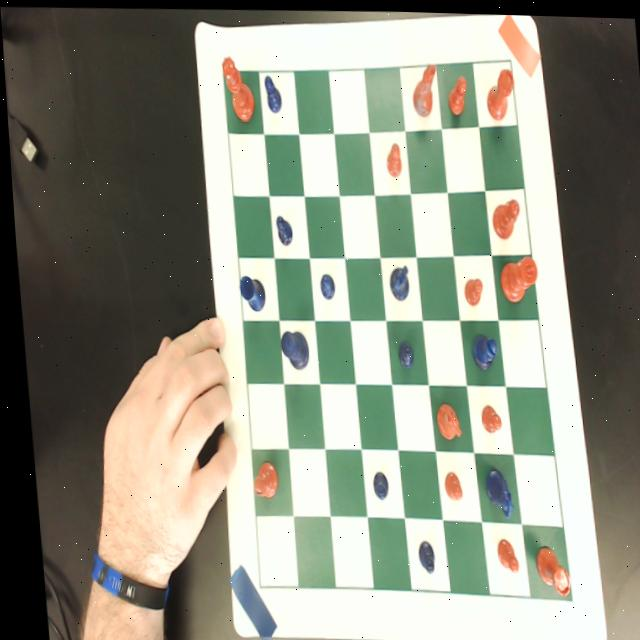B: (465, 329, 494, 368)
K: (273, 327, 304, 368)
N: (476, 462, 508, 518), (381, 257, 407, 300)
P: (260, 71, 281, 111), (408, 535, 427, 572), (363, 466, 382, 497), (271, 212, 289, 242), (313, 269, 331, 297), (392, 337, 409, 366)
R: (233, 272, 262, 310)
b: (486, 192, 519, 239), (240, 455, 273, 501)
k: (493, 251, 535, 301)
n: (407, 57, 438, 114), (428, 397, 456, 440)
p: (443, 70, 467, 112), (487, 532, 511, 571), (472, 400, 496, 431), (381, 139, 401, 175), (457, 272, 480, 302), (434, 466, 455, 497)
q: (219, 53, 254, 120)
r: (525, 541, 562, 597), (482, 62, 515, 118)
